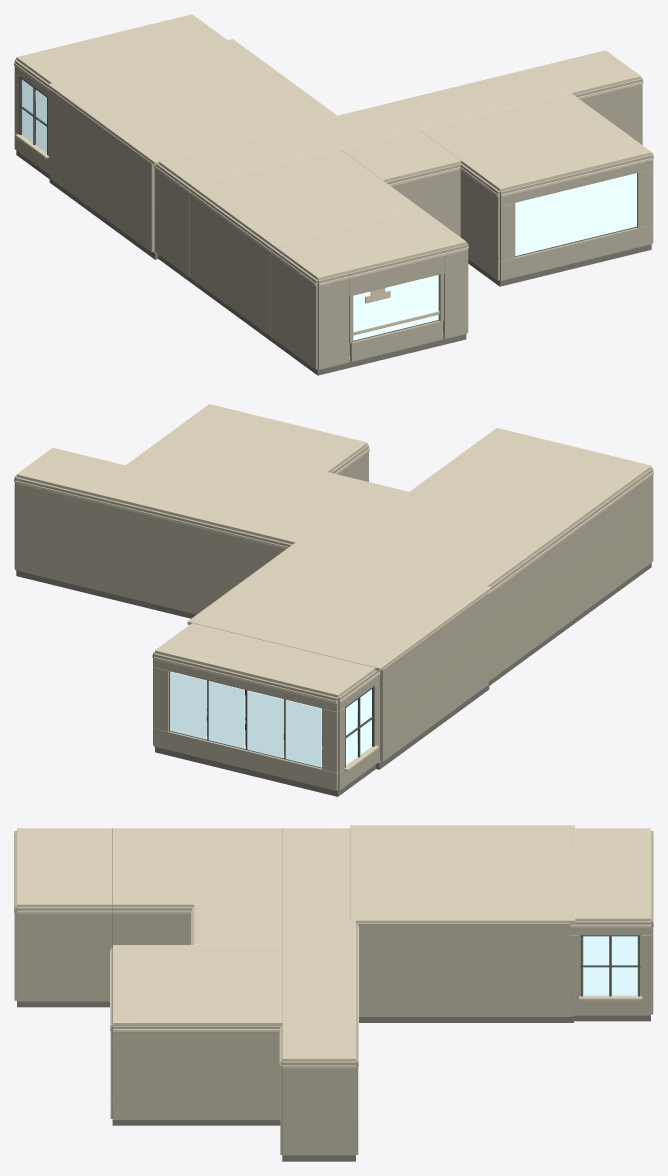
Rendered from living-room.glb.
The picture shows the model from 3 angles, top to bottom: view 1: azimuth 30°, elevation 25°; view 2: azimuth 150°, elevation 25°; view 3: azimuth 270°, elevation 25°; orthographic projection. The views are drawn at different scales.
Visible parts, largest first — view 1: Crown moulding, hallway crown west, study crown west, dining crown west, kitchen wall south, Sofa side wall, kitchen crown west, dining wall west, study window glass, balcony ceiling, study south lower wall, kitchen wall west (+13 smaller); view 2: Crown moulding, hallway wall north, hallway crown west, dining crown west, study crown west, Sofa side wall, balcony window north glass 0, balcony ceiling, dining wall west, kitchen crown west, balcony north lower wall, kitchen wall west (+10 smaller); view 3: Crown moulding, TV side wall, hallway crown west, study wall east, study crown west, dining crown west, kitchen wall east, kitchen crown west, balcony ceiling, hallway wall east, wash crown west, balcony window east glass 0 (+10 smaller).
Part boxes in pixels (x1=…): Crown moulding: x1=48, y1=39, x2=339, y2=164; hallway crown west: x1=154, y1=50, x2=643, y2=193; study crown west: x1=419, y1=93, x2=653, y2=197; dining crown west: x1=189, y1=149, x2=420, y2=252; kitchen wall south: x1=317, y1=244, x2=467, y2=369; Sofa side wall: x1=50, y1=89, x2=154, y2=252; kitchen crown west: x1=270, y1=208, x2=468, y2=286; dining wall west: x1=190, y1=188, x2=271, y2=335; study window glass: x1=515, y1=173, x2=636, y2=255; balcony ceiling: x1=14, y1=14, x2=227, y2=91; study south lower wall: x1=500, y1=169, x2=652, y2=280; kitchen wall west: x1=270, y1=247, x2=317, y2=369; Crown moulding: x1=187, y1=540, x2=490, y2=671; hallway wall north: x1=15, y1=477, x2=292, y2=614; hallway crown west: x1=14, y1=447, x2=522, y2=594; dining crown west: x1=366, y1=462, x2=606, y2=569; study crown west: x1=126, y1=404, x2=369, y2=503; Sofa side wall: x1=380, y1=592, x2=488, y2=761; balcony window north glass 0: x1=170, y1=671, x2=321, y2=767; balcony ceiling: x1=152, y1=623, x2=380, y2=703; dining wall west: x1=520, y1=503, x2=605, y2=656; kitchen crown west: x1=450, y1=428, x2=653, y2=508; balcony north lower wall: x1=153, y1=667, x2=337, y2=790; kitchen wall west: x1=604, y1=468, x2=653, y2=595; Crown moulding: x1=350, y1=825, x2=575, y2=923; TV side wall: x1=357, y1=923, x2=569, y2=1016; hallway crown west: x1=279, y1=828, x2=358, y2=1067; study wall east: x1=112, y1=1025, x2=280, y2=1119; study crown west: x1=110, y1=945, x2=282, y2=1032; dining crown west: x1=112, y1=828, x2=282, y2=913; kitchen wall east: x1=17, y1=907, x2=112, y2=1001; kitchen crown west: x1=14, y1=828, x2=112, y2=913; balcony ceiling: x1=570, y1=828, x2=653, y2=927; hallway wall east: x1=282, y1=1061, x2=355, y2=1155; wash crown west: x1=191, y1=904, x2=282, y2=944; balcony window east glass 0: x1=583, y1=936, x2=637, y2=995.
Size of the model in its own units: 15.05 by 3.1 by 17.36.
Materials: 21 (10 with a texture image).
